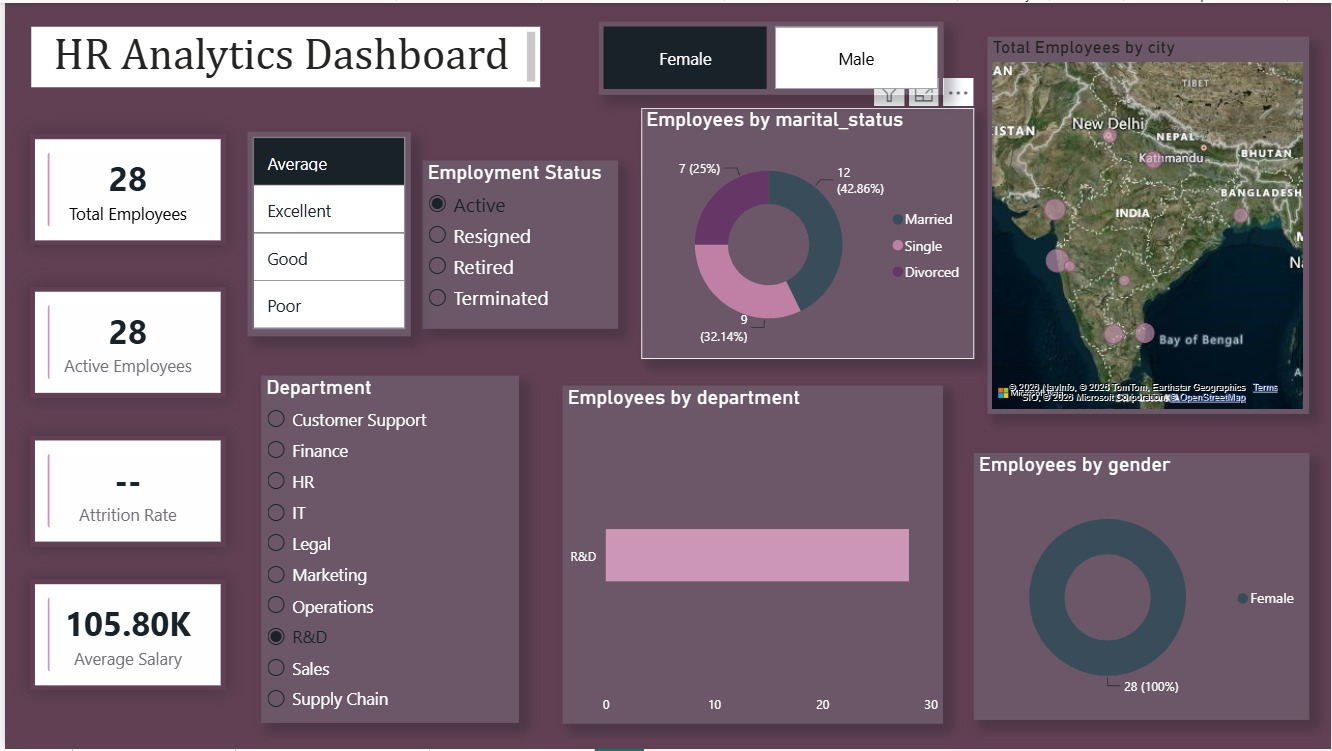

The dashboard page shown, as its layout file describes it:
{"tool":"powerbi","page":{"name":"Overview","canvas":[1280,720],"ordinal":0},"visuals":[{"type":"cardVisual","fields":{"Data":["hr employees.Total Employees"]},"box":[24.7,126.2,189.4,107],"z":0},{"type":"cardVisual","fields":{"Data":["hr employees.Active Employees"]},"box":[24.7,274.4,189.4,107],"z":1000},{"type":"cardVisual","fields":{"Data":["hr employees.Attrition Rate"]},"box":[24.7,417.2,189.4,107],"z":2000},{"type":"cardVisual","fields":{"Data":["hr employees.Average Salary"]},"box":[24.7,555.7,189.4,107],"z":3000},{"type":"barChart","title":" Employees by department","fields":{"Y":["hr employees.Total Employees"],"Category":["hr employees.department"]},"box":[537.5,368.8,367.5,326.2],"z":4000},{"type":"donutChart","title":"Employees by gender","fields":{"Category":["hr employees.gender"],"Y":["hr employees.Total Employees"]},"box":[935,433.8,323.8,257.5],"z":5000},{"type":"map","fields":{"Category":["hr employees.city"],"Size":["hr employees.Total Employees"]},"box":[948.8,32.5,310,363.8],"z":6000},{"type":"pieChart","title":" Employees by marital_status","fields":{"Category":["hr employees.marital_status"],"Y":["hr employees.Total Employees"]},"box":[613.8,101.2,321.2,242.5],"z":7000},{"type":"listSlicer","title":"Department","fields":{"Values":["hr employees.department"]},"box":[247.5,360,248.8,335],"z":8000},{"type":"textbox","box":[25,22.5,491.2,58.8],"z":9000},{"type":"advancedSlicerVisual","fields":{"Values":["hr employees.performance_rating"]},"box":[233.8,123.8,157.5,197.5],"z":10000},{"type":"advancedSlicerVisual","fields":{"Values":["hr employees.gender"]},"box":[572.5,17.5,332.5,70],"z":11000},{"type":"listSlicer","title":"Employment Status","fields":{"Values":["hr employees.employment_status"]},"box":[402.5,152.5,188.8,162.5],"z":12000}]}

Visuals, with their boxes in screenshot pixels (x1, y1, x2, y2), scaled from the page's 1280x720 canvas onto the 1332x751 screenshot:
cardVisual - hr employees.Total Employees: [x1=26, y1=132, x2=223, y2=243]
cardVisual - hr employees.Active Employees: [x1=26, y1=286, x2=223, y2=398]
cardVisual - hr employees.Attrition Rate: [x1=26, y1=435, x2=223, y2=547]
cardVisual - hr employees.Average Salary: [x1=26, y1=580, x2=223, y2=691]
" Employees by department" barChart: [x1=559, y1=385, x2=942, y2=725]
"Employees by gender" donutChart: [x1=973, y1=452, x2=1310, y2=721]
map - hr employees.city x hr employees.Total Employees: [x1=987, y1=34, x2=1310, y2=413]
" Employees by marital_status" pieChart: [x1=639, y1=106, x2=973, y2=358]
"Department" listSlicer: [x1=258, y1=376, x2=516, y2=725]
textbox: [x1=26, y1=23, x2=537, y2=85]
advancedSlicerVisual - hr employees.performance_rating: [x1=243, y1=129, x2=407, y2=335]
advancedSlicerVisual - hr employees.gender: [x1=596, y1=18, x2=942, y2=91]
"Employment Status" listSlicer: [x1=419, y1=159, x2=615, y2=329]
